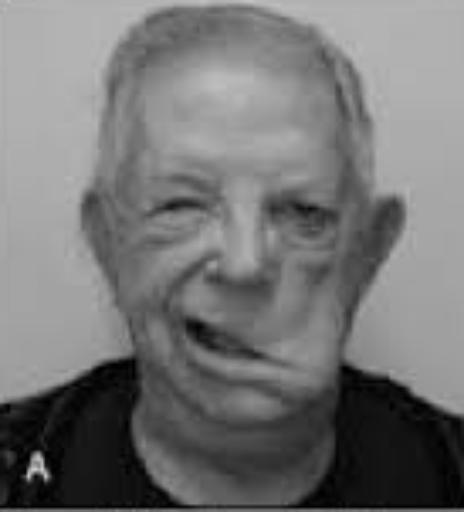left_eye: (263, 202, 337, 227)
left_lip_corner: (254, 341, 285, 370)
right_eye: (147, 198, 218, 222)
right_lip_corner: (175, 309, 199, 334)
